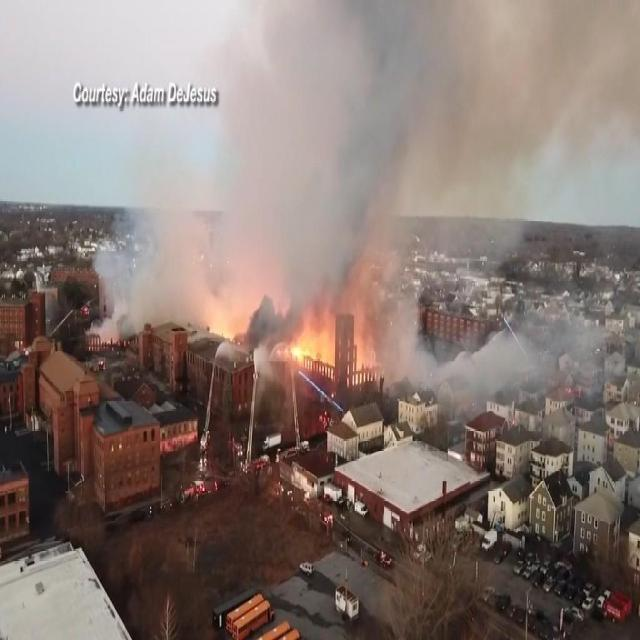Fire: (278, 314, 333, 369), (351, 334, 370, 384), (210, 323, 237, 340)
Smoke: (226, 16, 640, 214), (108, 211, 372, 333), (375, 216, 433, 389), (442, 324, 560, 396)
